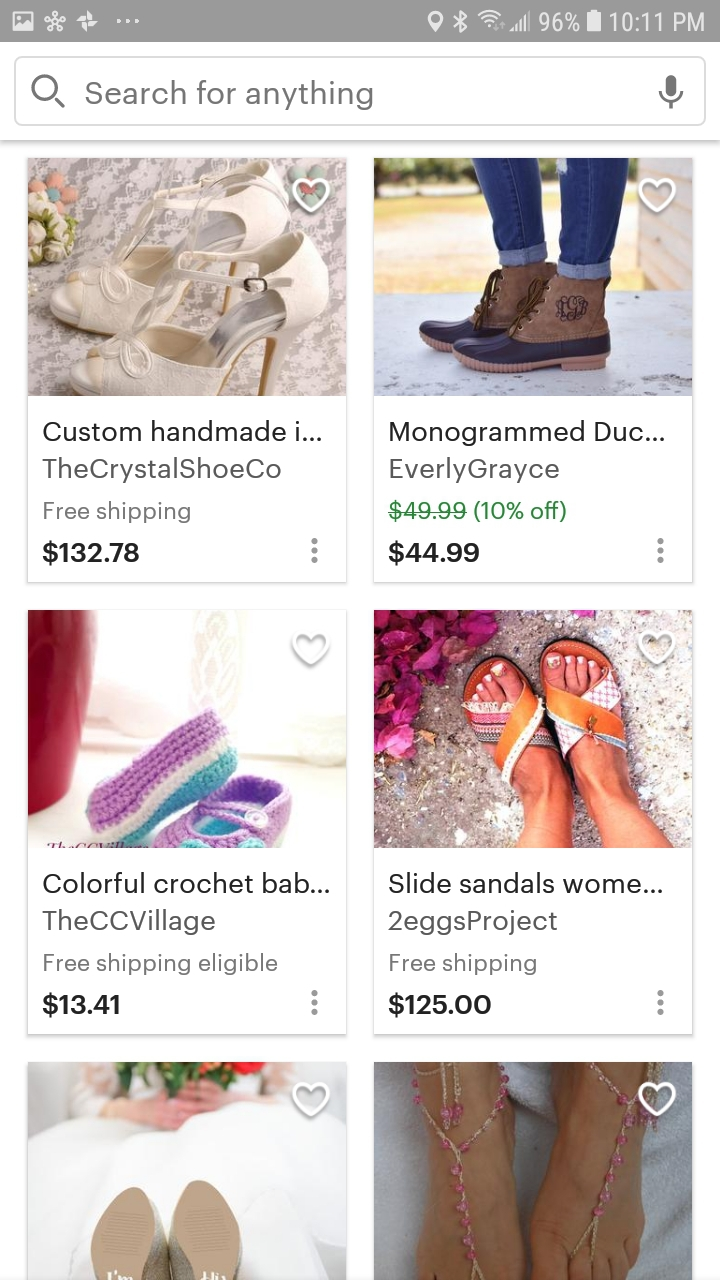EditText: (15, 56, 707, 127)
Icon: (292, 1080, 332, 1117), (638, 177, 677, 214), (292, 178, 331, 214), (638, 1081, 677, 1117), (293, 632, 331, 666), (639, 631, 676, 665), (31, 75, 66, 110), (658, 76, 684, 111), (655, 538, 664, 565), (310, 990, 319, 1017), (656, 989, 665, 1016), (310, 538, 319, 564)
Image: (375, 158, 694, 397), (29, 158, 348, 396), (29, 610, 347, 848), (374, 610, 692, 848), (28, 1062, 348, 1280), (374, 1062, 693, 1280)
Text: (86, 80, 373, 111), (389, 420, 664, 448), (43, 456, 282, 485), (43, 871, 330, 895), (44, 949, 278, 977), (43, 420, 323, 443), (389, 871, 663, 894), (42, 908, 216, 936), (390, 457, 560, 485), (388, 910, 558, 936), (388, 500, 567, 523), (389, 952, 537, 976), (44, 501, 192, 524), (389, 992, 492, 1019), (43, 540, 141, 567), (388, 540, 480, 567), (43, 991, 121, 1019)
UpperTaskBar: (1, 1, 720, 43)
